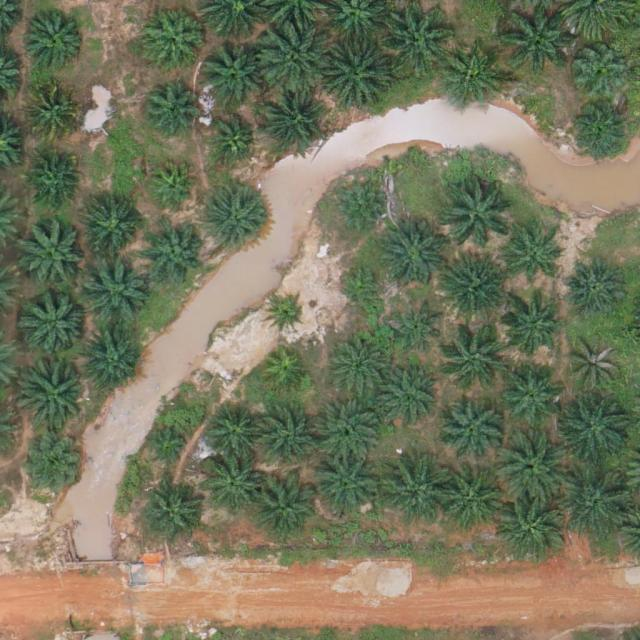Dead: (569, 339, 624, 394)
Healthy: (311, 450, 382, 521), (563, 469, 633, 540), (497, 432, 567, 503), (497, 495, 568, 565), (442, 321, 512, 392), (437, 256, 507, 327), (443, 176, 513, 247), (320, 40, 390, 111), (262, 24, 332, 95), (313, 395, 383, 466), (379, 456, 449, 527), (80, 254, 151, 324), (21, 288, 92, 358), (561, 394, 631, 464), (501, 4, 571, 74), (435, 468, 505, 538), (382, 4, 452, 74), (377, 222, 447, 292), (250, 475, 320, 545), (19, 219, 89, 289), (21, 358, 91, 428), (500, 298, 563, 361), (500, 362, 563, 425), (439, 399, 502, 462), (442, 49, 505, 112), (144, 7, 207, 70), (142, 483, 205, 546), (22, 438, 85, 501), (569, 99, 632, 161), (200, 43, 262, 106), (329, 335, 391, 398), (377, 368, 439, 431), (257, 409, 319, 472), (200, 454, 263, 516), (204, 404, 266, 467), (80, 329, 142, 392), (25, 7, 87, 70), (564, 257, 626, 319), (261, 90, 323, 152), (205, 190, 267, 252), (146, 223, 208, 285), (572, 41, 627, 96), (391, 302, 446, 357), (332, 182, 387, 237), (143, 81, 198, 136), (87, 203, 142, 258), (508, 233, 562, 288), (26, 152, 80, 207)
Small: (150, 162, 197, 210), (209, 116, 256, 163), (339, 264, 386, 311), (146, 427, 193, 474), (267, 295, 307, 335)
Yellow: (24, 84, 79, 139), (262, 350, 309, 397)
